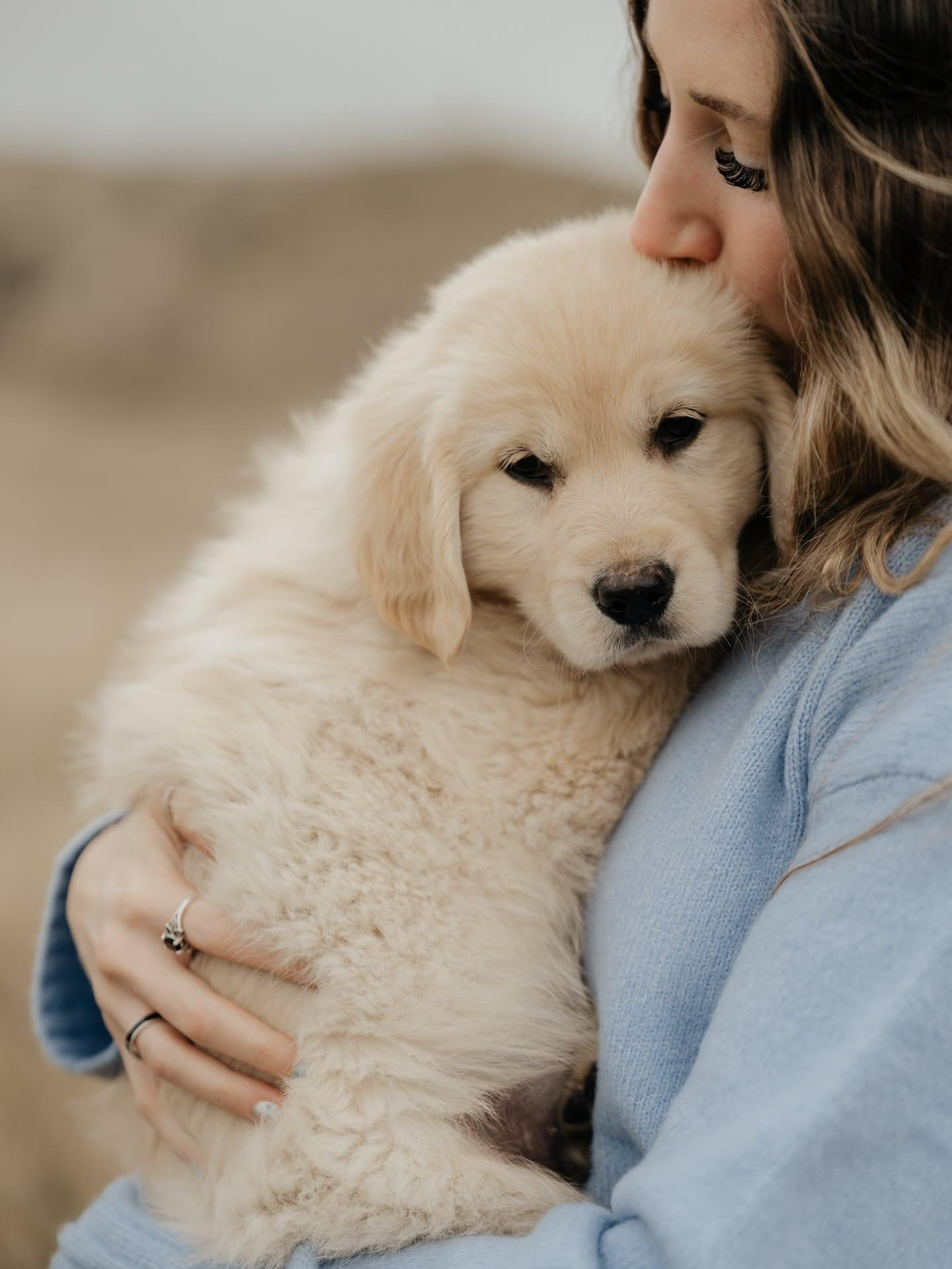non-dog: (22, 0, 952, 1269)
puppy-dog: (69, 210, 799, 1266)
